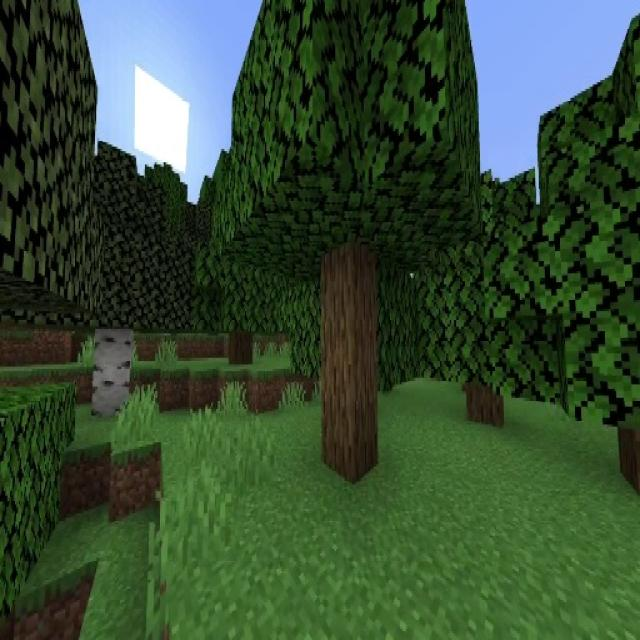birch: (31, 142, 195, 416)
birch_log: (93, 331, 133, 414)
oak: (231, 1, 480, 486), (410, 171, 562, 431), (195, 209, 280, 365)
oak_log: (322, 256, 379, 482), (467, 384, 505, 431), (229, 333, 252, 363)
